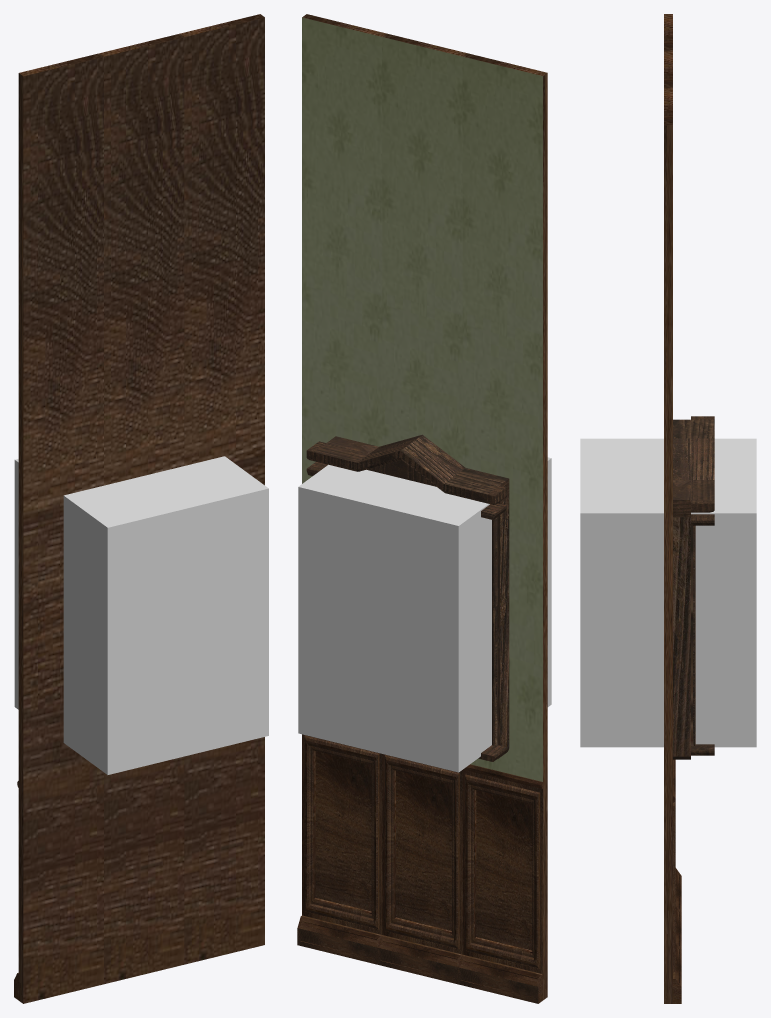
The model's file is Mur_Fenetre_V1_3X(1).fbx.
The picture shows the model from 3 angles, left to right: view 1: azimuth 30°, elevation 25°; view 2: azimuth 150°, elevation 25°; view 3: azimuth 270°, elevation 25°; orthographic projection. The views are drawn at different scales.
Parts seen in each view (by area): view 1: Cube, Cube.001; view 2: Cube, Cube.001, bar_bas; view 3: Cube.001, Cube, bar_bas.
Part boxes in pixels (left/top/right/bottom): Cube: left=14, top=14, right=264, bottom=1003; Cube.001: left=14, top=456, right=268, bottom=774; Cube: left=297, top=14, right=547, bottom=1003; Cube.001: left=298, top=457, right=551, bottom=772; bar_bas: left=306, top=434, right=509, bottom=761; Cube.001: left=580, top=438, right=756, bottom=747; Cube: left=664, top=14, right=681, bottom=1003; bar_bas: left=673, top=416, right=714, bottom=759.
Size of the model in its own units: 300 by 1100 by 200.
